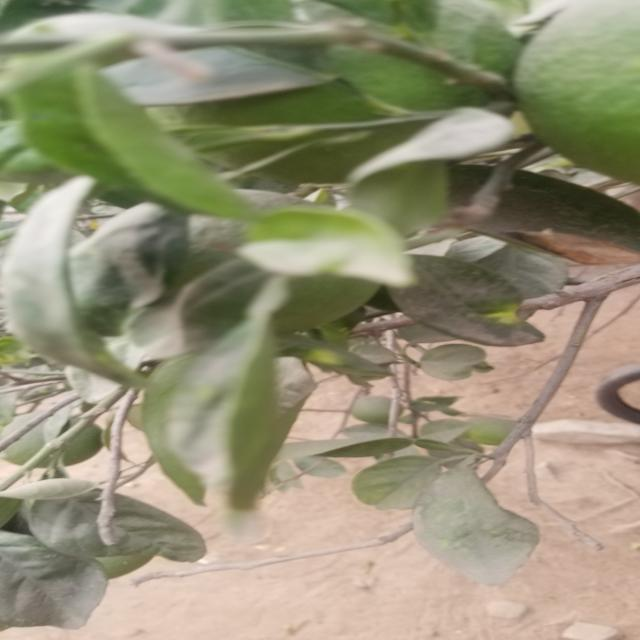Unripe: (490, 0, 640, 200)
